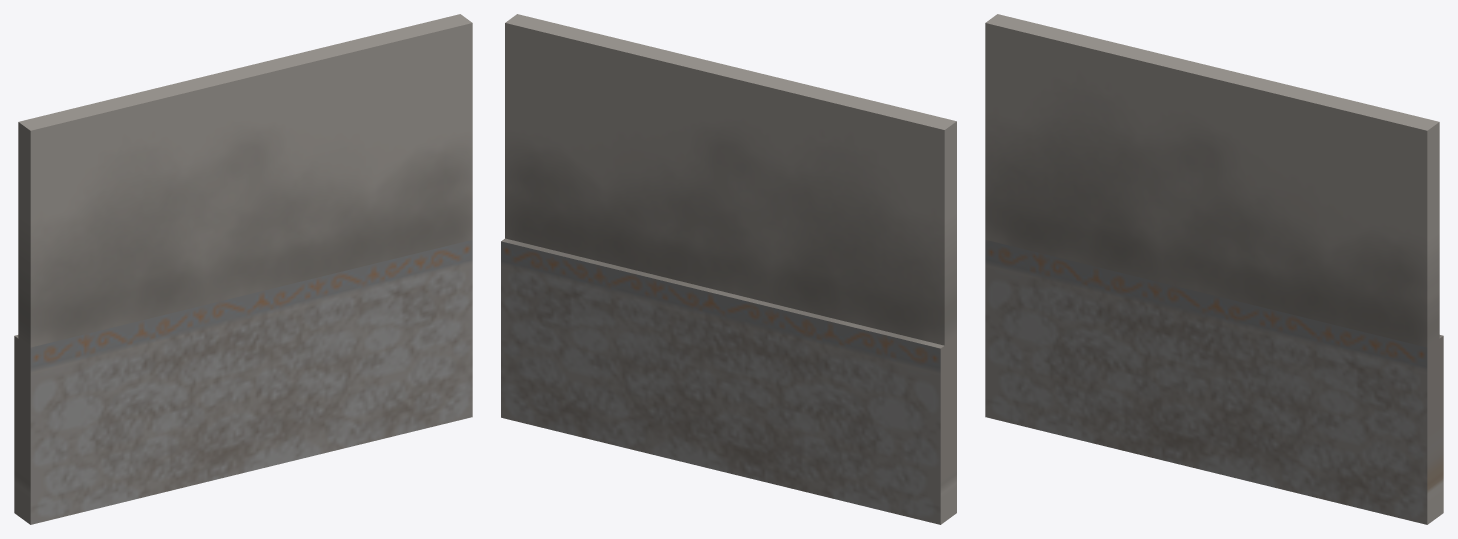
File: GrayGray_ModularLowWall.fbx
The picture shows the model from 3 angles, left to right: view 1: azimuth 30°, elevation 25°; view 2: azimuth 150°, elevation 25°; view 3: azimuth 330°, elevation 25°; orthographic projection.
Visible parts, largest first — view 1: Cube.005; view 2: Cube.005; view 3: Cube.005.
Part boxes in pixels (left/top/right/bottom): Cube.005: left=14, top=14, right=472, bottom=524; Cube.005: left=501, top=14, right=956, bottom=524; Cube.005: left=985, top=14, right=1443, bottom=524.
Bounding box in the file's own units: 4.14 × 3.53 × 0.2635.
